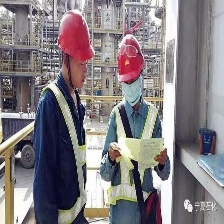helmet: (55, 9, 97, 64), (117, 31, 145, 85)
person: (100, 33, 175, 224), (34, 8, 97, 224)
